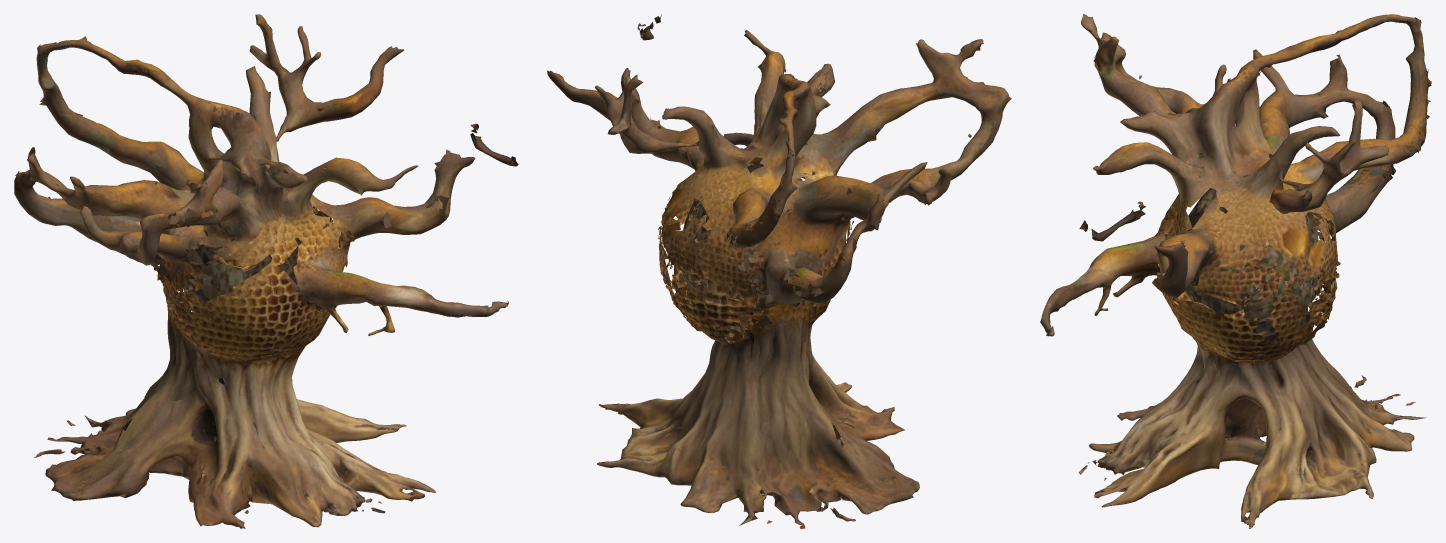
File: hive_tree.glb
The picture shows the model from 3 angles, left to right: view 1: azimuth 30°, elevation 25°; view 2: azimuth 150°, elevation 25°; view 3: azimuth 270°, elevation 25°; orthographic projection. The views are drawn at different scales.
Parts seen in each view (by area): view 1: Mesh0; view 2: Mesh0; view 3: Mesh0.
Boxes of the visible parts, left/top/right/bottom form: Mesh0: left=14, top=14, right=518, bottom=528; Mesh0: left=547, top=14, right=1011, bottom=528; Mesh0: left=1040, top=14, right=1431, bottom=528.
Bounding box in the file's own units: 1.94 × 1.99 × 1.8.
1 material, 1 textured.
